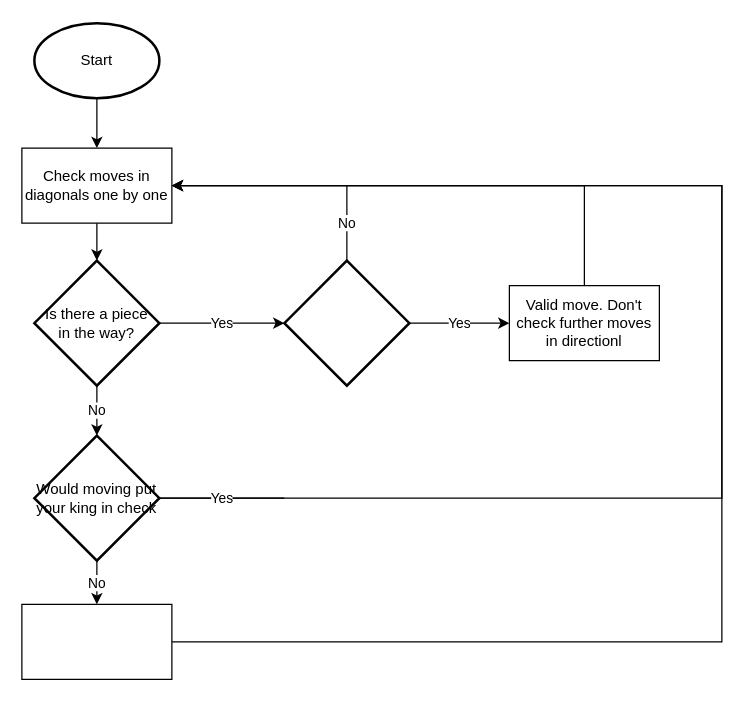
The diagram is 754 pixels wide and 701 high, and some of its shapes have lost their labels. Each missing label, with the centre of its shape:
"Is the piece black?" goes at [346,322].
"Valid Move" goes at [96,641].
